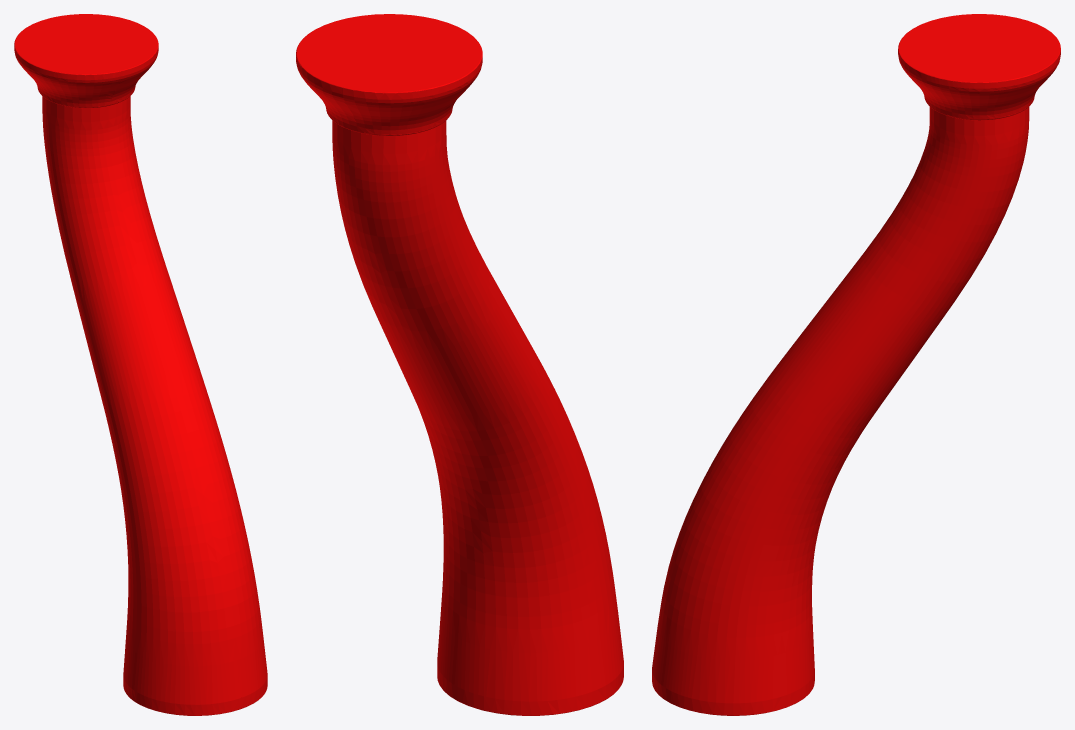
3 renders of one model, left to right at view 1: azimuth 30°, elevation 25°; view 2: azimuth 150°, elevation 25°; view 3: azimuth 270°, elevation 25°, orthographic. The views are drawn at different scales.
Visible parts, largest first — view 1: H2017_4_0; view 2: H2017_4_0; view 3: H2017_4_0.
Boxes of the visible parts, x1,y1,x2,y2 form: H2017_4_0: (14, 14, 267, 715); H2017_4_0: (296, 14, 623, 715); H2017_4_0: (652, 14, 1060, 715).
Bounding box in the file's own units: 131 × 329 × 563.
